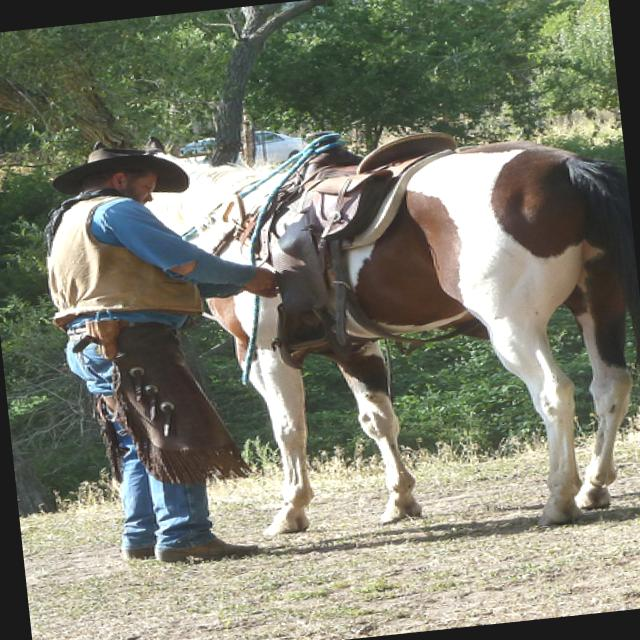Vehicle: (170, 122, 314, 176)
